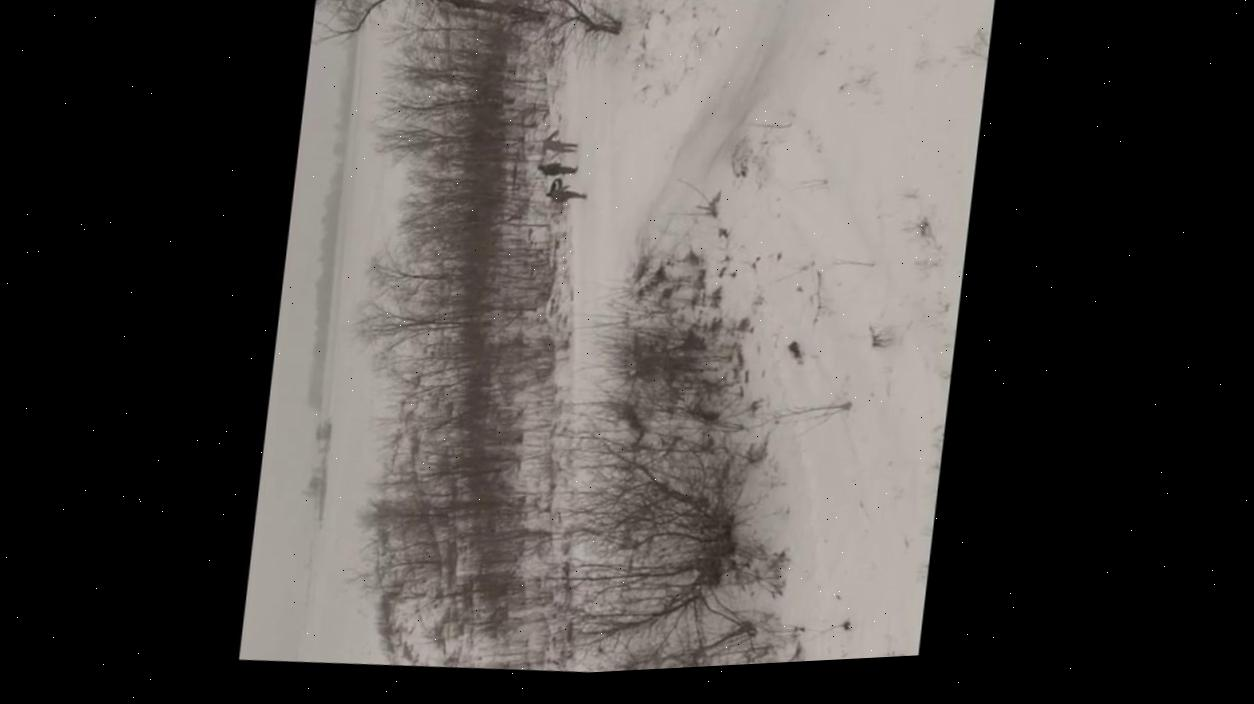person: (539, 126, 580, 158), (544, 181, 589, 207), (537, 159, 578, 179)
